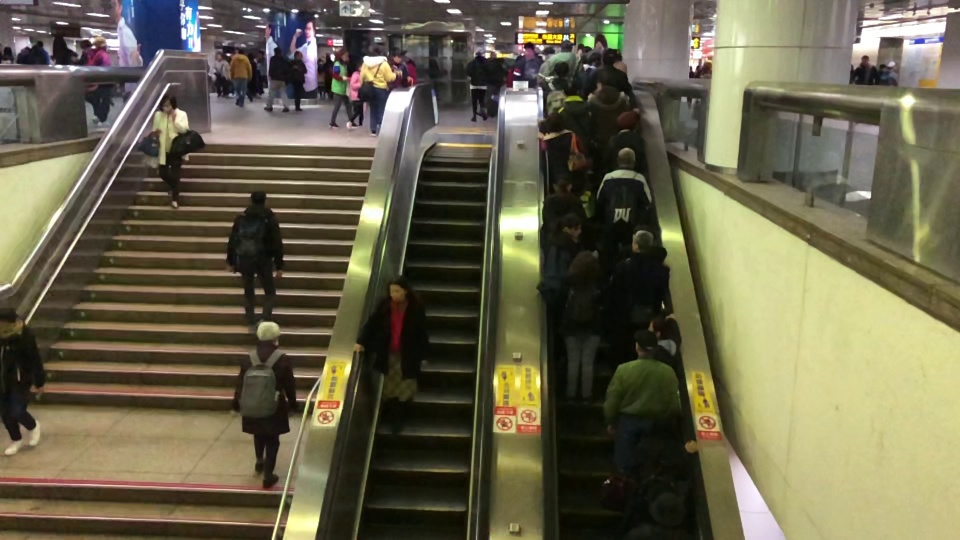person_head: (649, 491, 686, 527), (567, 250, 601, 281), (648, 414, 676, 444), (632, 329, 658, 359), (253, 321, 281, 348), (557, 212, 583, 239), (386, 274, 410, 303), (630, 229, 655, 255), (614, 146, 638, 170), (648, 314, 670, 340), (543, 111, 565, 134), (0, 306, 18, 333), (552, 172, 573, 194), (594, 68, 616, 89), (616, 110, 639, 130), (158, 93, 178, 113), (562, 76, 579, 97), (250, 190, 267, 209), (600, 48, 616, 67), (552, 61, 569, 77), (366, 43, 385, 57), (335, 47, 350, 64), (91, 35, 107, 50), (523, 41, 536, 57), (559, 39, 573, 53), (588, 52, 601, 67), (52, 36, 66, 49), (542, 45, 556, 57), (79, 38, 91, 51), (391, 51, 402, 65), (403, 50, 413, 64), (292, 49, 303, 61), (614, 48, 623, 62), (859, 54, 870, 64), (273, 46, 282, 58), (702, 63, 712, 73), (20, 45, 30, 55), (581, 46, 593, 54), (354, 61, 362, 73), (514, 54, 523, 64), (256, 49, 265, 59), (3, 45, 12, 55), (474, 50, 482, 61), (246, 52, 254, 62), (214, 51, 222, 61), (887, 61, 895, 70), (323, 54, 332, 62), (35, 40, 44, 48), (316, 57, 323, 67), (489, 51, 496, 60), (878, 64, 886, 71), (237, 48, 244, 56), (696, 65, 700, 71), (688, 65, 692, 71)
person_vbox: (352, 273, 431, 436), (601, 329, 680, 488), (229, 320, 297, 489), (608, 229, 674, 373), (555, 250, 609, 408), (623, 414, 698, 527), (224, 191, 285, 329), (594, 146, 652, 279), (0, 306, 45, 456), (536, 212, 583, 321), (538, 171, 588, 265), (149, 93, 189, 210), (539, 112, 585, 196), (625, 491, 699, 540), (358, 43, 396, 137), (586, 68, 631, 146), (601, 110, 649, 183), (84, 35, 112, 128), (327, 47, 358, 129), (553, 76, 591, 142), (584, 48, 632, 100), (536, 39, 579, 85), (476, 51, 504, 119), (648, 313, 680, 368), (263, 46, 289, 113), (542, 61, 575, 112), (465, 50, 488, 123), (512, 41, 544, 90), (229, 48, 253, 107), (287, 49, 307, 112), (346, 61, 364, 129), (575, 53, 601, 99), (692, 63, 712, 121), (207, 51, 229, 98), (851, 54, 879, 85), (51, 36, 78, 66), (318, 54, 335, 100), (387, 51, 408, 88), (24, 40, 50, 65), (246, 52, 258, 101), (70, 38, 91, 65), (256, 49, 267, 98), (507, 54, 523, 87), (403, 50, 417, 85), (316, 57, 326, 100), (580, 46, 601, 65), (612, 48, 627, 74), (886, 61, 899, 86), (693, 65, 701, 103), (687, 65, 694, 105), (16, 45, 30, 64), (0, 45, 14, 64), (875, 64, 886, 84)
